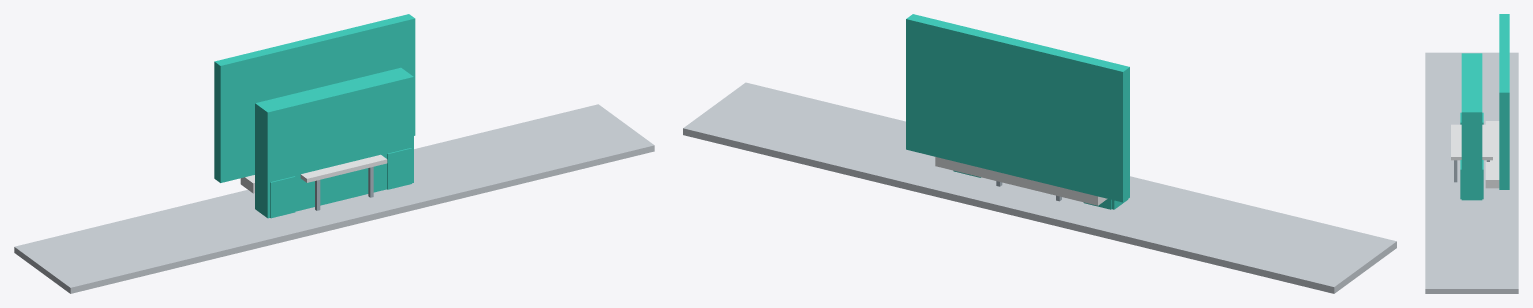
The picture shows the model from 3 angles, left to right: view 1: azimuth 30°, elevation 25°; view 2: azimuth 150°, elevation 25°; view 3: azimuth 270°, elevation 25°; orthographic projection. The views are drawn at different scales.
Visible parts, largest first — view 1: Exhibition Booth Concept; view 2: Exhibition Booth Concept; view 3: Exhibition Booth Concept.
Part boxes in pixels (left/top/right/bottom): Exhibition Booth Concept: left=14, top=14, right=654, bottom=293; Exhibition Booth Concept: left=683, top=14, right=1396, bottom=293; Exhibition Booth Concept: left=1425, top=14, right=1518, bottom=293.
Size of the model in its own units: 12 by 2.9 by 2.
